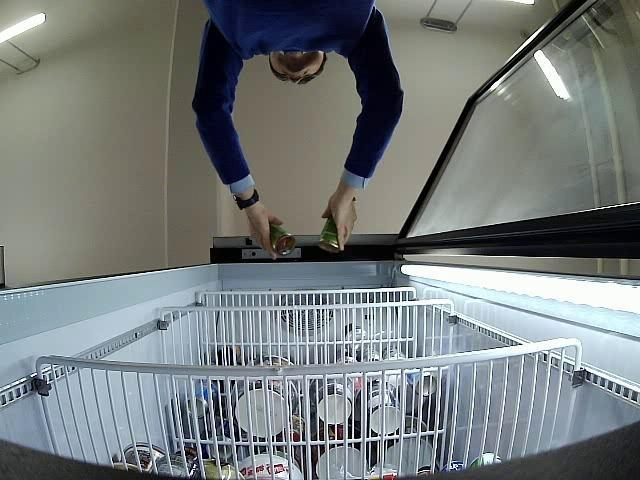19_17cha: (269, 222, 297, 256), (319, 218, 342, 253)
